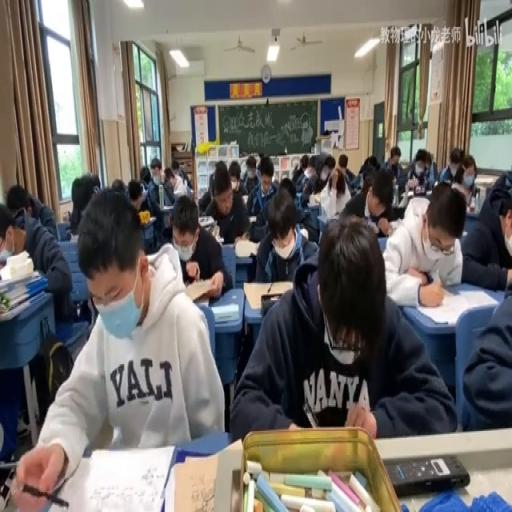calculator: (46, 442, 176, 511), (414, 286, 494, 327), (169, 453, 220, 512), (0, 289, 45, 320), (0, 264, 39, 294), (210, 302, 238, 324), (234, 238, 259, 258), (317, 199, 329, 221), (196, 215, 214, 226), (465, 206, 481, 218), (210, 222, 220, 239), (307, 196, 320, 208), (298, 226, 308, 240), (248, 215, 257, 223), (240, 195, 247, 205), (214, 236, 222, 243), (162, 205, 172, 210)
paper: (230, 216, 448, 442), (0, 188, 71, 456), (171, 192, 231, 299), (461, 170, 512, 288), (253, 189, 317, 282), (342, 164, 400, 228), (68, 174, 102, 233), (144, 155, 170, 220), (403, 148, 435, 195), (0, 202, 23, 260), (438, 145, 468, 186), (331, 151, 357, 193), (382, 147, 405, 189), (239, 152, 261, 194), (291, 155, 312, 193), (168, 156, 190, 192), (126, 176, 148, 212), (226, 158, 242, 192), (314, 151, 330, 179), (358, 154, 378, 176), (278, 176, 296, 199), (452, 178, 468, 199), (198, 188, 211, 213), (110, 176, 126, 194), (138, 164, 150, 186), (362, 172, 374, 194), (90, 172, 101, 192), (208, 169, 215, 195), (430, 158, 438, 180), (150, 158, 161, 171), (258, 151, 264, 162), (173, 166, 179, 176)
person: (384, 454, 468, 496), (260, 292, 282, 314)
